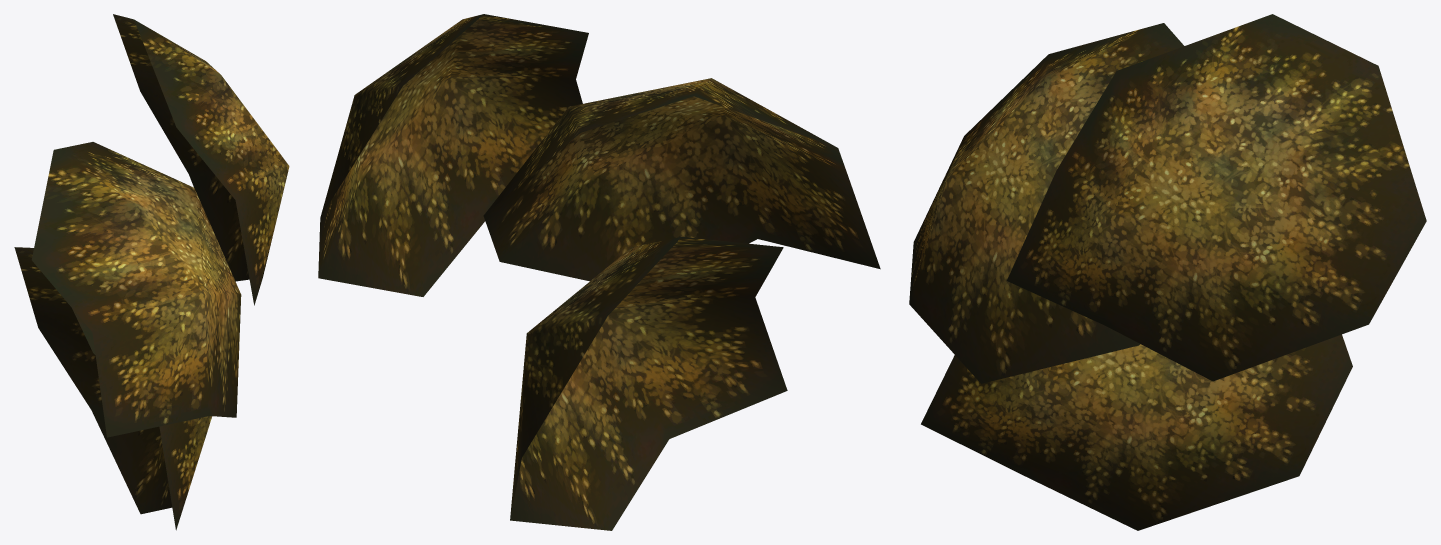
Rendered from menu_plants_gnarled_trees04.fbx.
3 views of the same model, side by side, from view 1: azimuth 30°, elevation 25°; view 2: azimuth 150°, elevation 25°; view 3: azimuth 270°, elevation 25° (orthographic). The views are drawn at different scales.
Visible parts, largest first — view 1: Material_#238683193/Material_#238683263; view 2: Material_#238683193/Material_#238683263; view 3: Material_#238683193/Material_#238683263.
Part boxes in pixels (box(x1,y1,x2,y2)): Material_#238683193/Material_#238683263: box(14, 14, 289, 530); Material_#238683193/Material_#238683263: box(318, 14, 880, 530); Material_#238683193/Material_#238683263: box(909, 14, 1426, 530).
Size of the model in its own units: 1.95 by 2.73 by 2.34.
